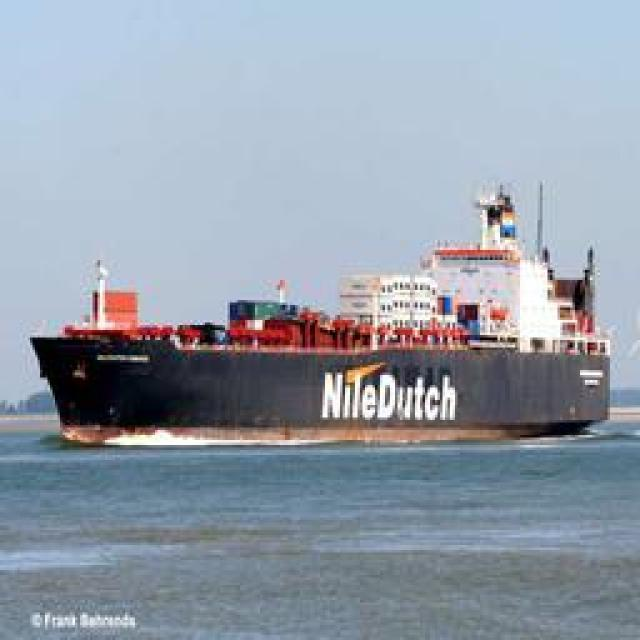CIV_Ship: (26, 170, 622, 445)
